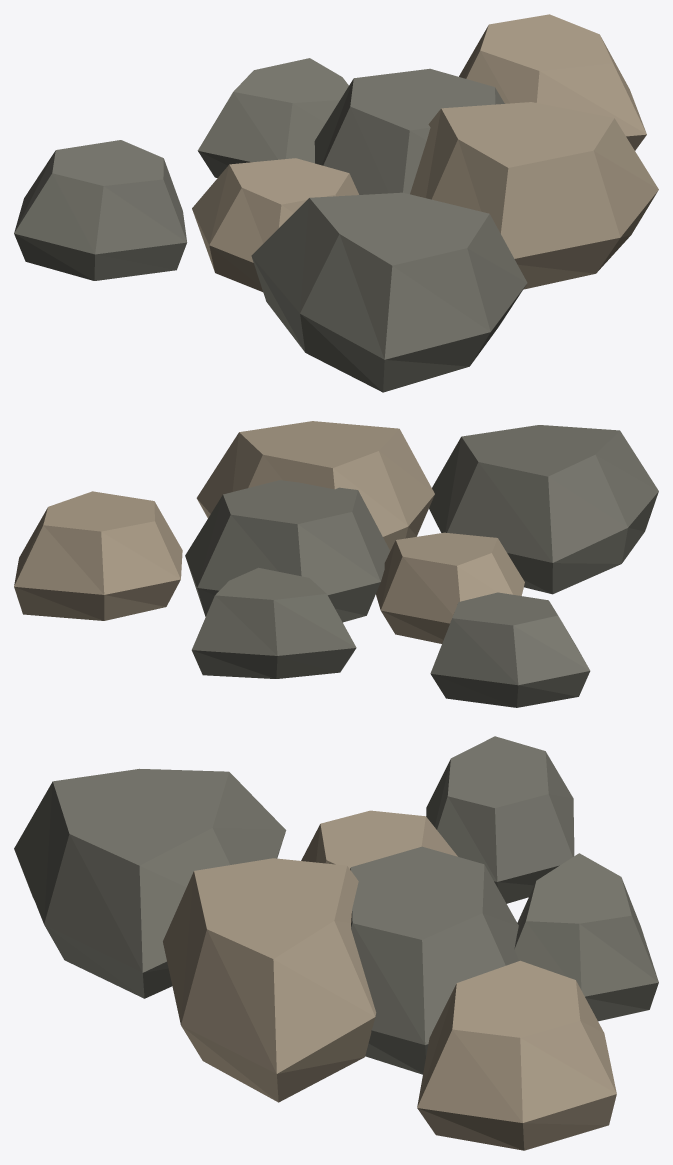
The model's file is rock_pebble_cluster_d.glb.
The picture shows the model from 3 angles, top to bottom: view 1: azimuth 30°, elevation 25°; view 2: azimuth 150°, elevation 25°; view 3: azimuth 270°, elevation 25°; orthographic projection. The views are drawn at different scales.
Visible parts, largest first — view 1: rock_pebble_cluster_d_LOD0_stone; view 2: rock_pebble_cluster_d_LOD0_stone; view 3: rock_pebble_cluster_d_LOD0_stone.
Boxes of the visible parts, box(x1,y1,x2,y2) form: rock_pebble_cluster_d_LOD0_stone: box(14, 14, 658, 392); rock_pebble_cluster_d_LOD0_stone: box(14, 421, 658, 707); rock_pebble_cluster_d_LOD0_stone: box(14, 736, 658, 1150).
Bounding box in the file's own units: 0.799 × 0.1727 × 0.6581.
